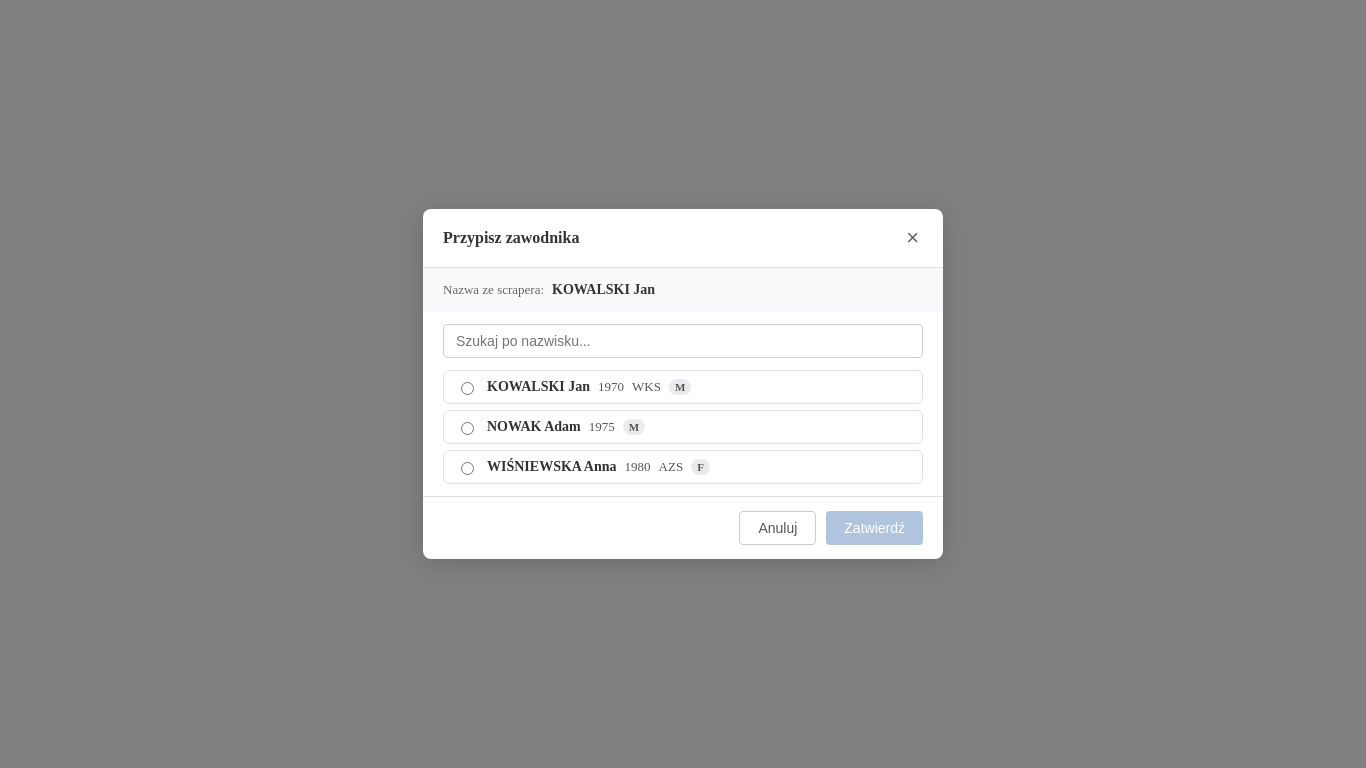
FencerSearchModal › filters fencers by search query
Type "NOWAK" into the field with placeholder "Szukaj po nazwisku..." at (683, 341), box [443,324,923,358]
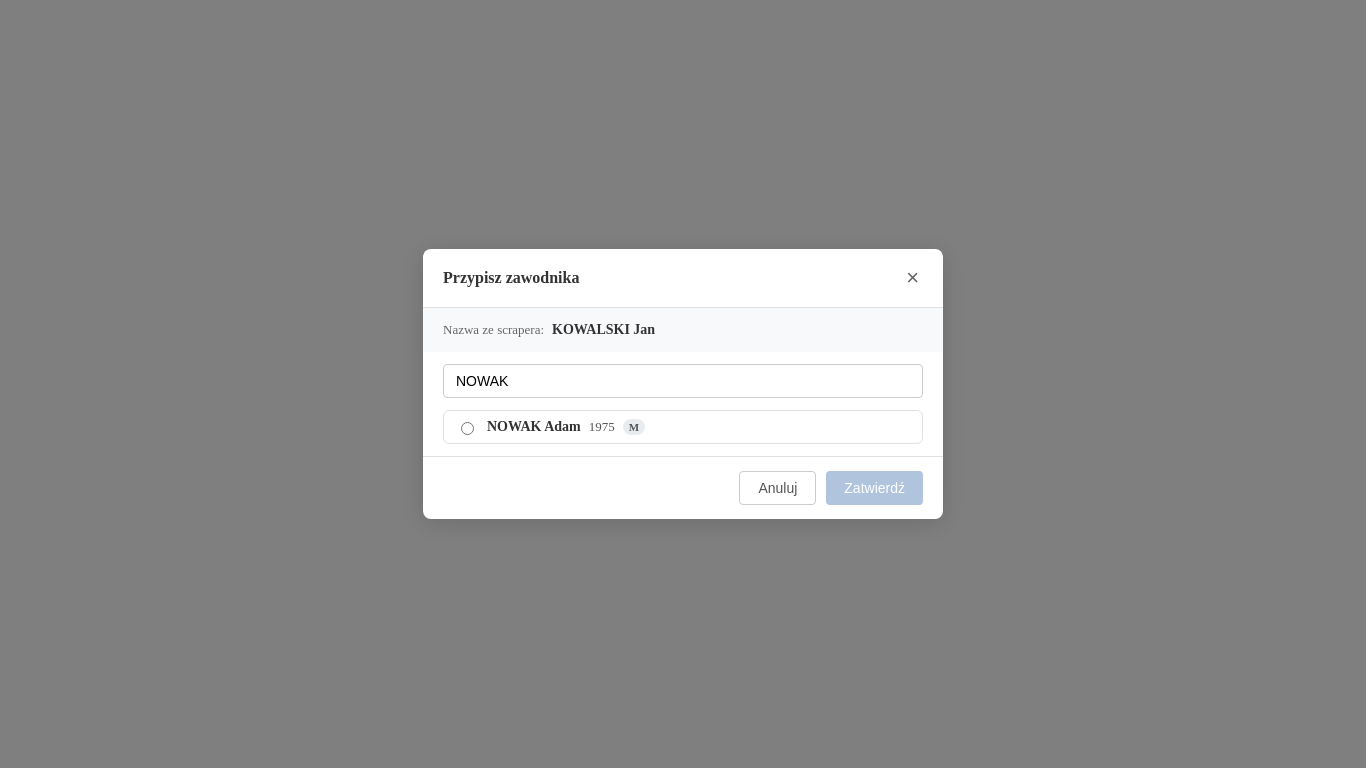
Check: the label "NOWAK Adam 1975 M" is shown, box [443,410,923,444]
Check: the number of labels is 1, box [443,410,923,444]
